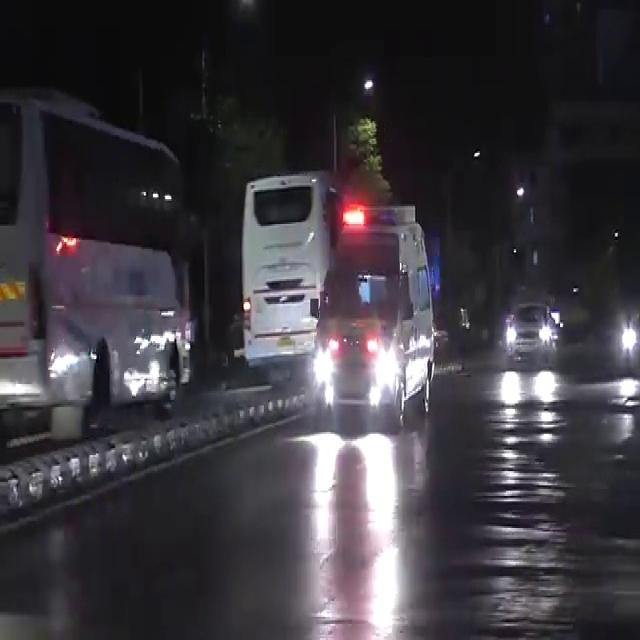ambulance: (305, 196, 451, 439)
